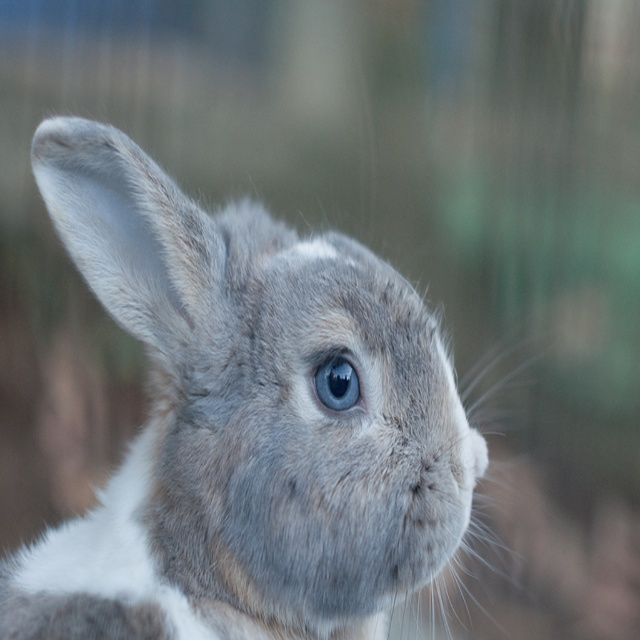Rabbit: (0, 102, 558, 639)
